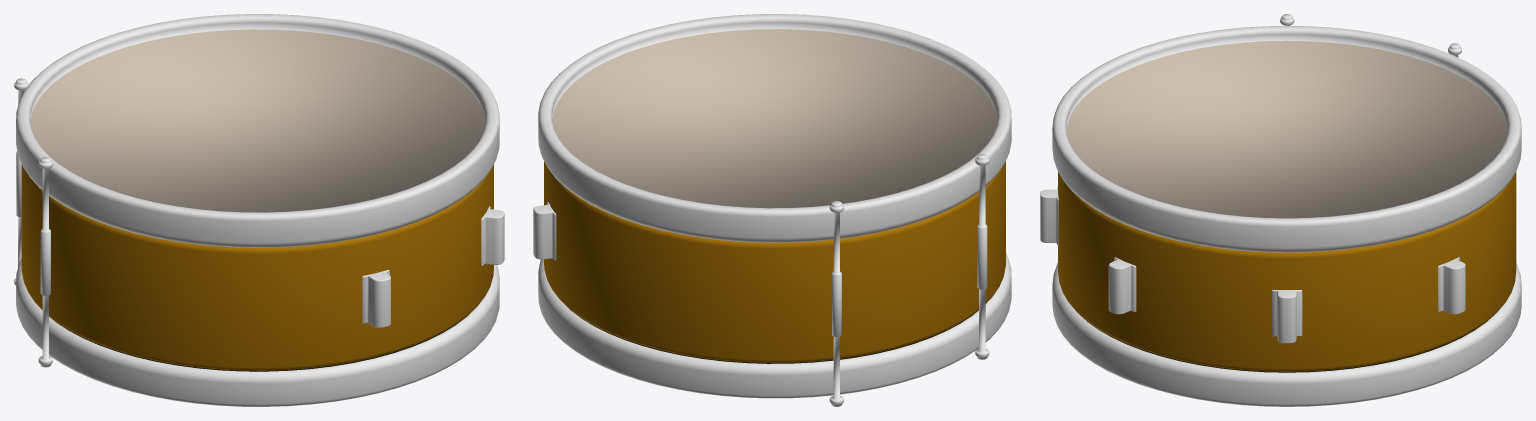
The model's file is drum.glb.
3 views of the same model, side by side, from view 1: azimuth 30°, elevation 25°; view 2: azimuth 150°, elevation 25°; view 3: azimuth 270°, elevation 25° (orthographic). The views are drawn at different scales.
Parts seen in each view (by area): view 1: Cylinder, Cylinder.002, Cube, Cube.002, Cylinder.001; view 2: Cylinder, Cylinder.002, Cylinder.001, Cube.003; view 3: Cylinder, Cube.001, Cube.002, Cube.003, Cube.
Part boxes in pixels (x1=…): Cylinder: x1=16, y1=14, x2=499, y2=406; Cylinder.002: x1=38, y1=157, x2=52, y2=367; Cube: x1=362, y1=270, x2=390, y2=327; Cube.002: x1=481, y1=206, x2=504, y2=265; Cylinder.001: x1=14, y1=78, x2=28, y2=285; Cylinder: x1=538, y1=14, x2=1011, y2=398; Cylinder.002: x1=975, y1=154, x2=989, y2=359; Cylinder.001: x1=829, y1=201, x2=843, y2=406; Cube.003: x1=533, y1=202, x2=556, y2=260; Cylinder: x1=1052, y1=25, x2=1521, y2=406; Cube.001: x1=1272, y1=290, x2=1302, y2=343; Cube.002: x1=1108, y1=257, x2=1136, y2=314; Cube.003: x1=1438, y1=257, x2=1465, y2=314; Cube: x1=1040, y1=187, x2=1058, y2=245.
Size of the model in its own units: 2.09 by 0.941 by 2.05.
